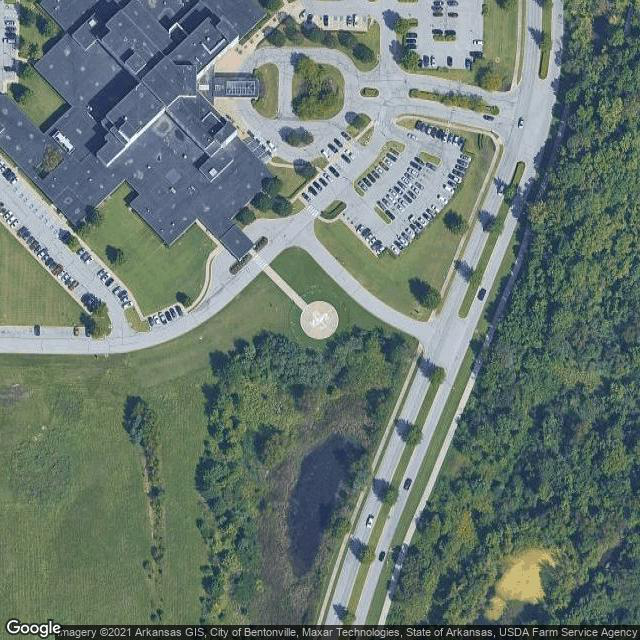Helipad: (299, 300, 340, 339)
